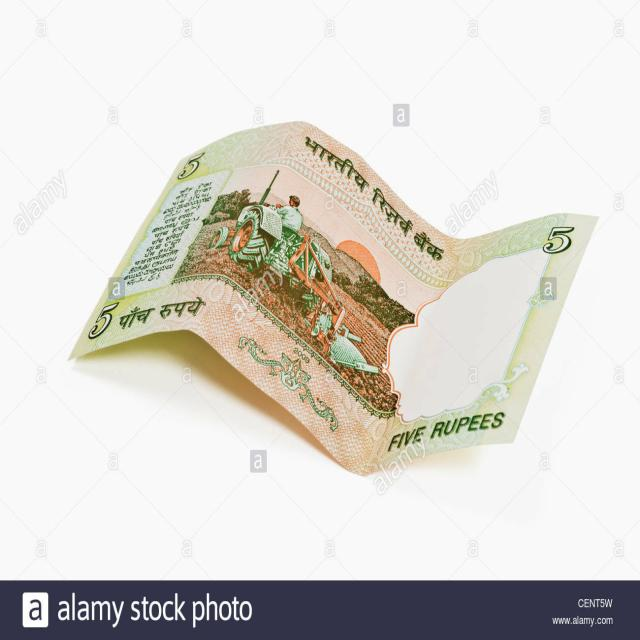5IndianRupees: (90, 119, 585, 475)
